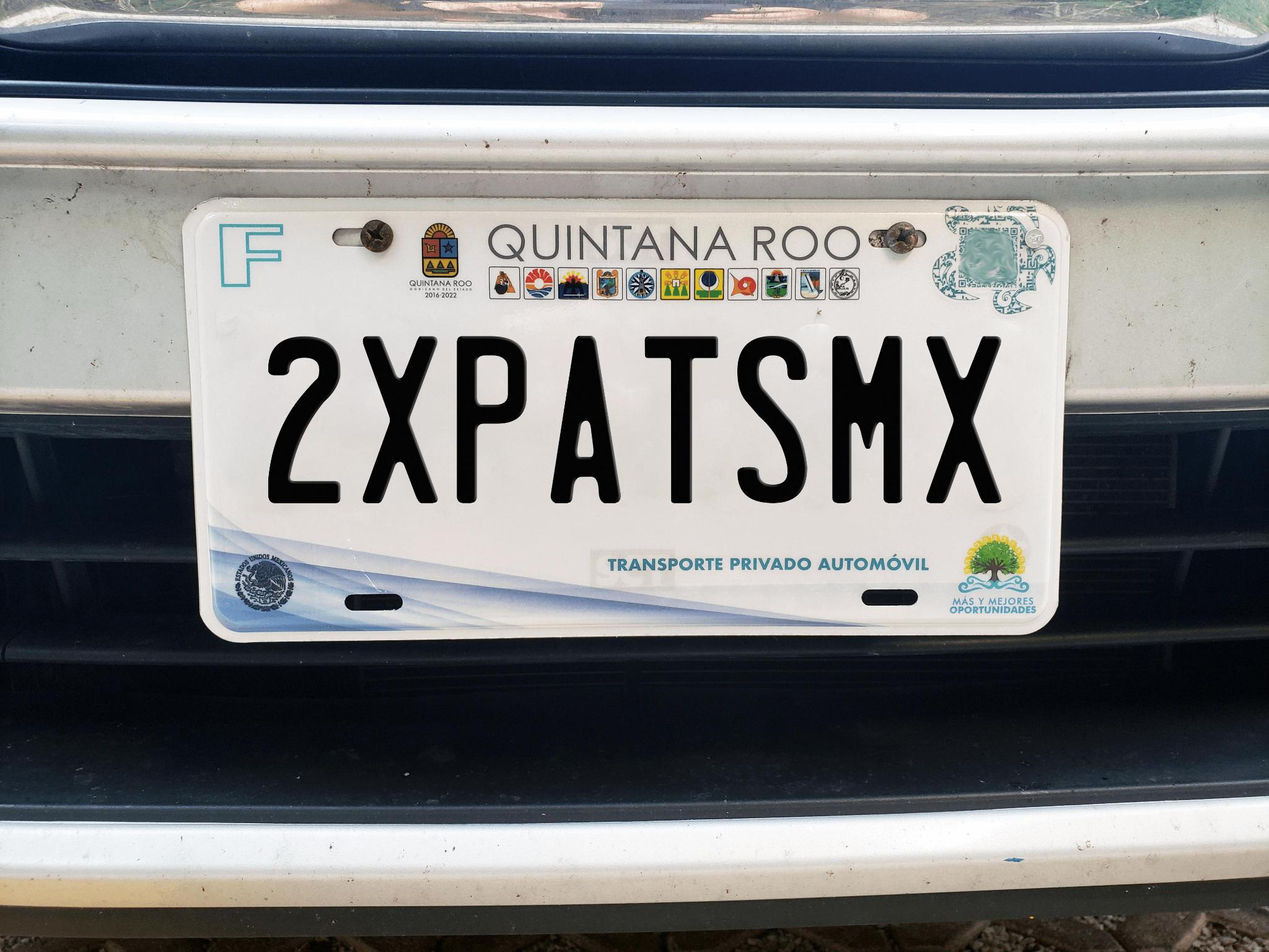License_Plate: (181, 205, 1061, 642)
